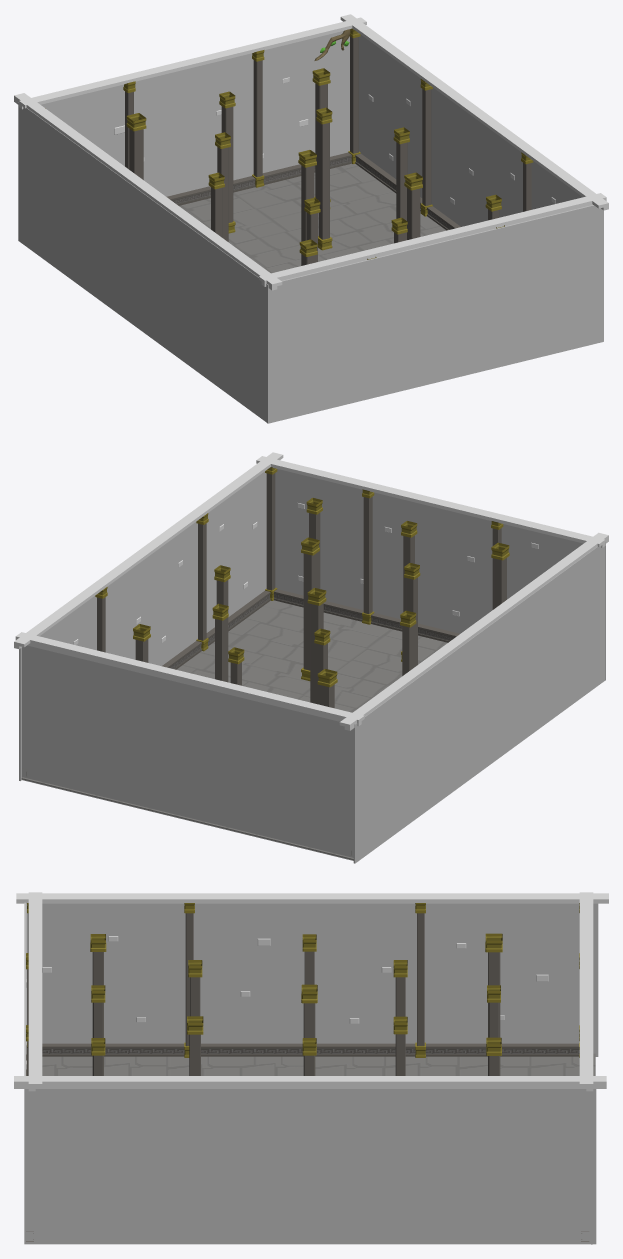
3 renders of one model, top to bottom at view 1: azimuth 30°, elevation 25°; view 2: azimuth 150°, elevation 25°; view 3: azimuth 270°, elevation 25°, orthographic. The views are drawn at different scales.
Parts seen in each view (by area): view 1: 벽, Object087, Box074, 1, Object085; view 2: 벽, Object087, Box074, 1, Object085; view 3: 벽, Box074, Object087, 1, Object085, 벽돌벽010.
Part boxes in pixels (x1=…): 벽: x1=18, y1=31, x2=603, y2=423; Object087: x1=123, y1=28, x2=533, y2=265; Box074: x1=14, y1=14, x2=608, y2=290; 1: x1=179, y1=163, x2=446, y2=273; Object085: x1=166, y1=152, x2=460, y2=230; 벽: x1=19, y1=469, x2=605, y2=863; Object087: x1=95, y1=467, x2=509, y2=708; Box074: x1=14, y1=452, x2=608, y2=730; 1: x1=21, y1=600, x2=447, y2=859; Object085: x1=22, y1=589, x2=459, y2=855; 벽: x1=24, y1=902, x2=598, y2=1244; Box074: x1=14, y1=892, x2=608, y2=1091; Object087: x1=26, y1=903, x2=579, y2=1075; 1: x1=42, y1=1053, x2=595, y2=1075; Object085: x1=26, y1=1043, x2=589, y2=1241; 벽돌벽010: x1=26, y1=936, x2=548, y2=1069.
Bounding box in the file's own units: 3117 × 1235 × 4088.
